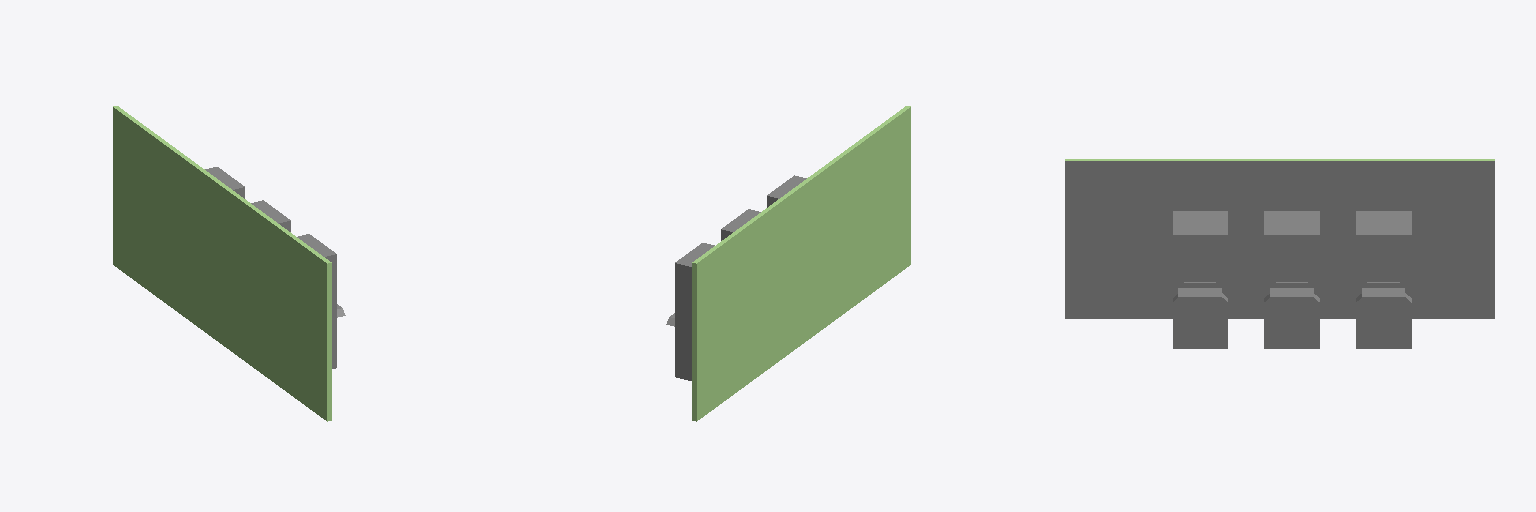
File: atm.obj
3 renders of one model, left to right at view 1: azimuth 30°, elevation 25°; view 2: azimuth 150°, elevation 25°; view 3: azimuth 270°, elevation 25°, orthographic.
Parts seen in each view (by area): view 1: Box049, atm003; view 2: Box049, atm005; view 3: Box049, atm004, atm005, atm003.
Part boxes in pixels (left/top/right/bottom): Box049: left=113, top=106, right=331, bottom=421; atm003: left=297, top=234, right=345, bottom=368; Box049: left=692, top=106, right=910, bottom=421; atm005: left=666, top=243, right=714, bottom=380; Box049: left=1065, top=159, right=1494, bottom=318; atm004: left=1264, top=211, right=1319, bottom=348; atm005: left=1356, top=211, right=1411, bottom=348; atm003: left=1173, top=211, right=1227, bottom=348.
Bounding box in the file's own units: 35.58 × 75.21 × 184.